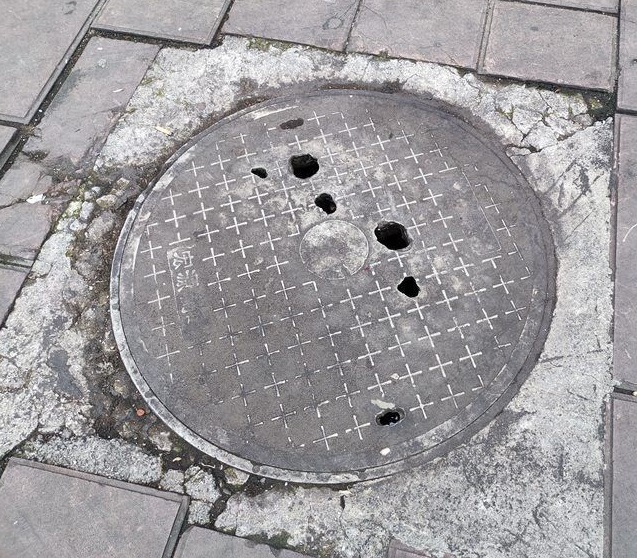well: (108, 79, 555, 485)
